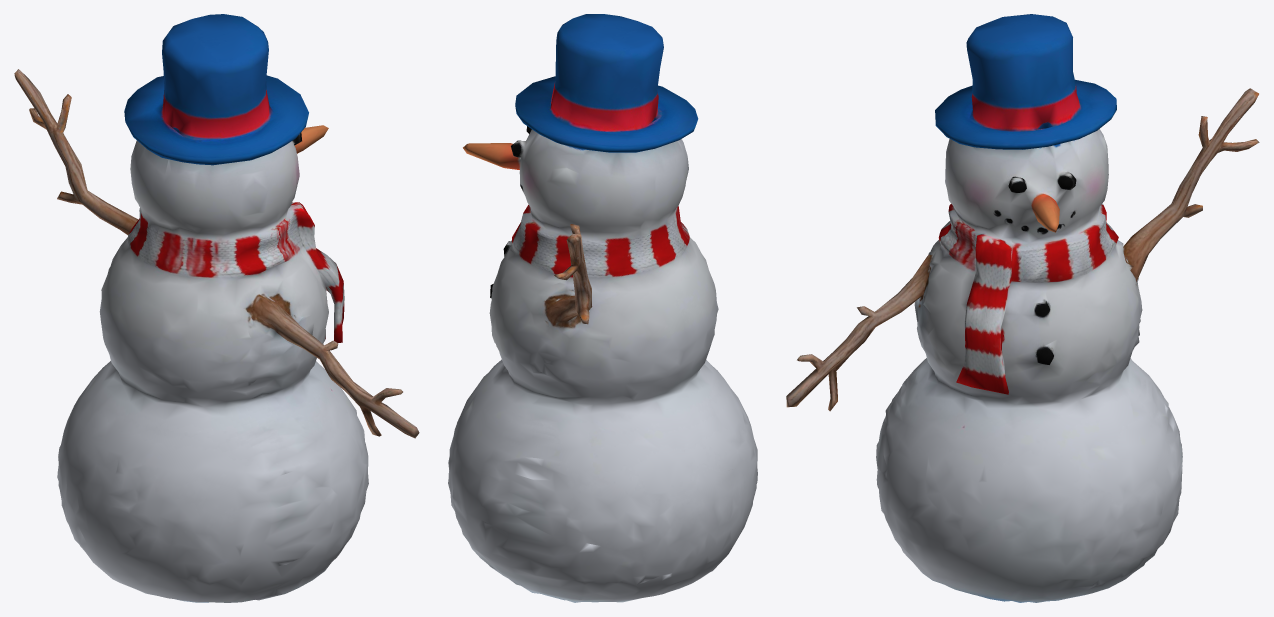
File: snowman_texture.obj
3 views of the same model, side by side, from view 1: azimuth 30°, elevation 25°; view 2: azimuth 150°, elevation 25°; view 3: azimuth 270°, elevation 25° (orthographic).
Visible parts, largest first — view 1: snowman_texture; view 2: snowman_texture; view 3: snowman_texture.
Part boxes in pixels (left/top/right/bottom): snowman_texture: left=14, top=14, right=419, bottom=602; snowman_texture: left=448, top=14, right=757, bottom=602; snowman_texture: left=786, top=14, right=1259, bottom=602.
Size of the model in its own units: 0.5314 by 1 by 0.8057.
1 material, 1 textured.
